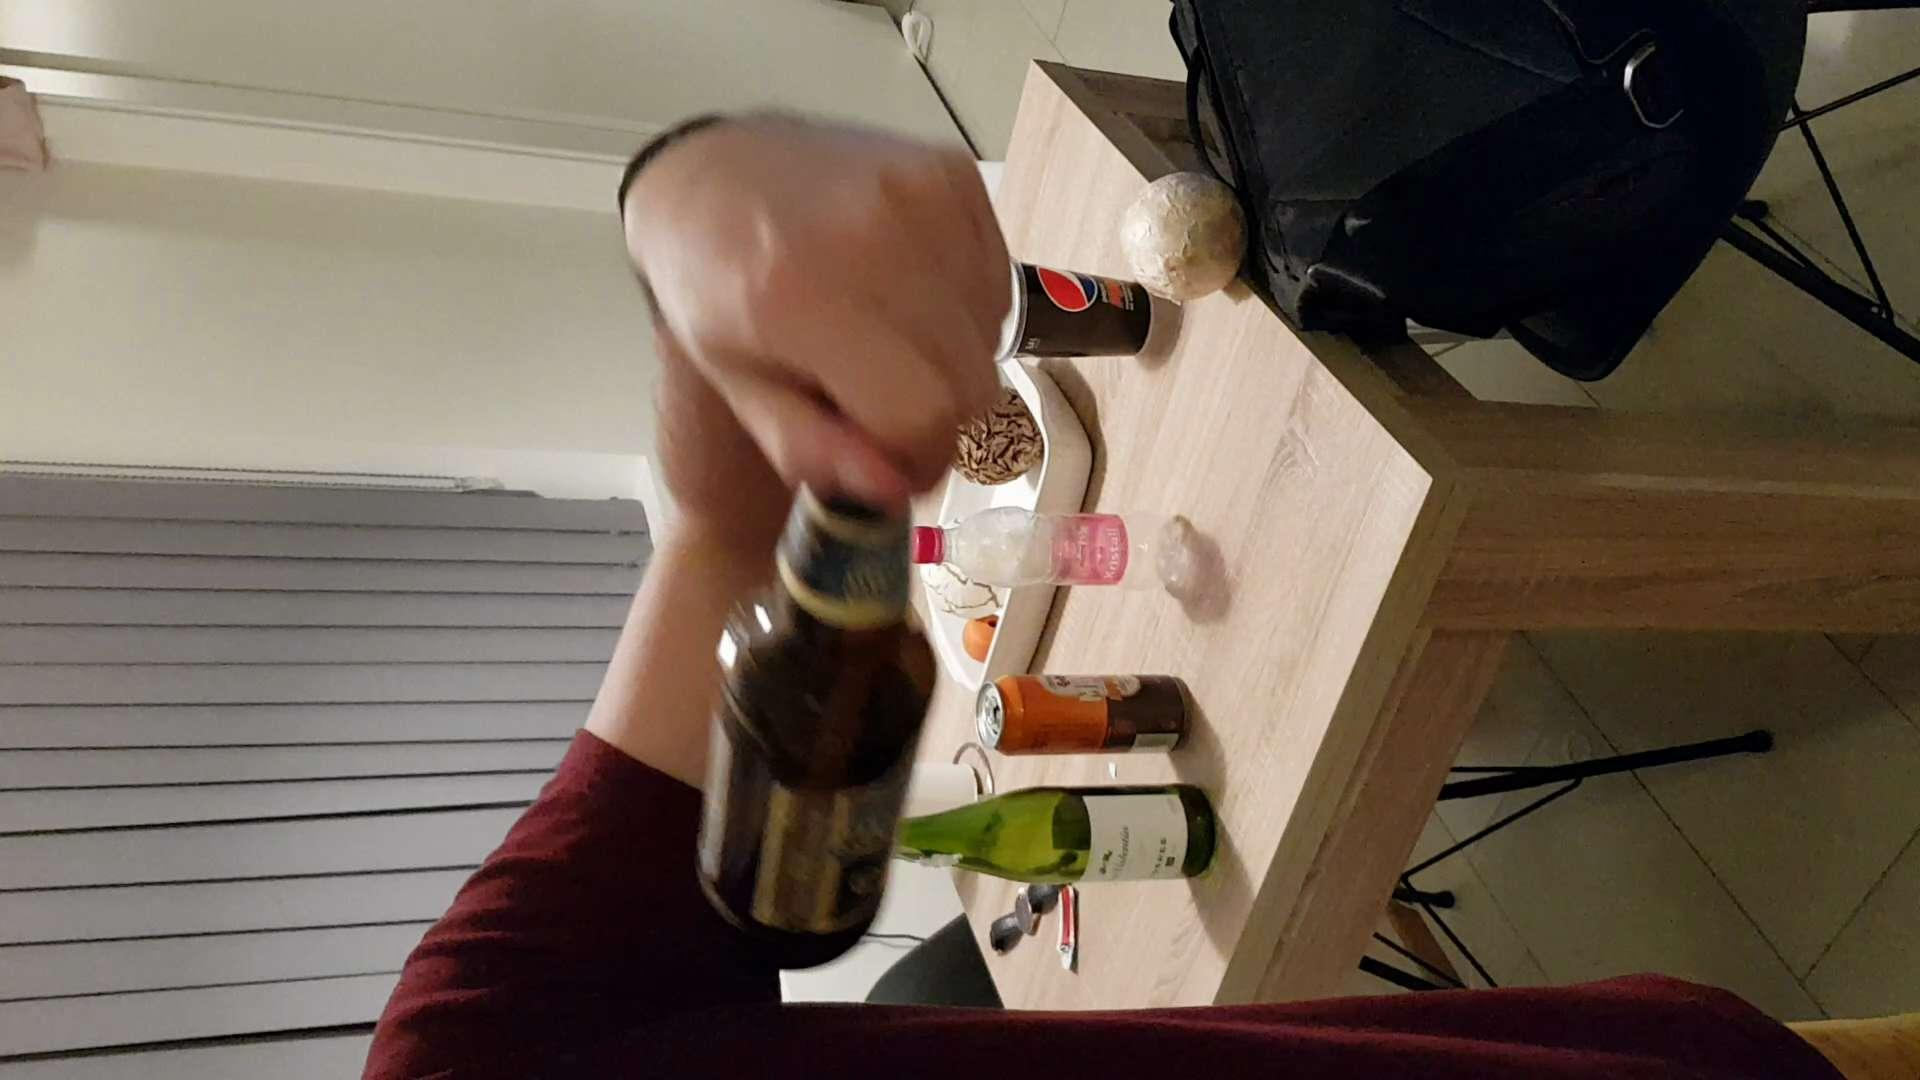Bottle: (684, 444, 932, 968), (865, 775, 1237, 899), (911, 496, 1232, 603)
Can: (971, 669, 1203, 760)
Sphere: (1112, 170, 1255, 310)
